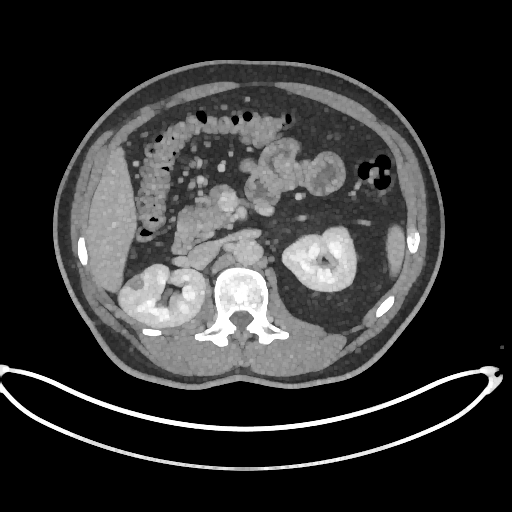Lesion: (125, 275, 145, 291)
